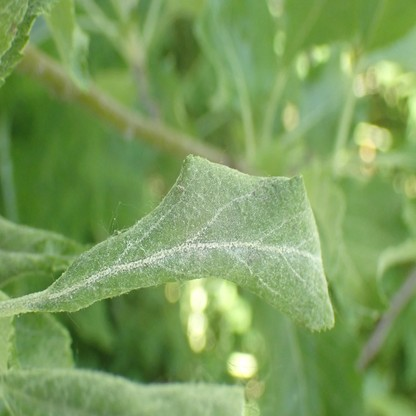powder: (50, 154, 333, 333)
